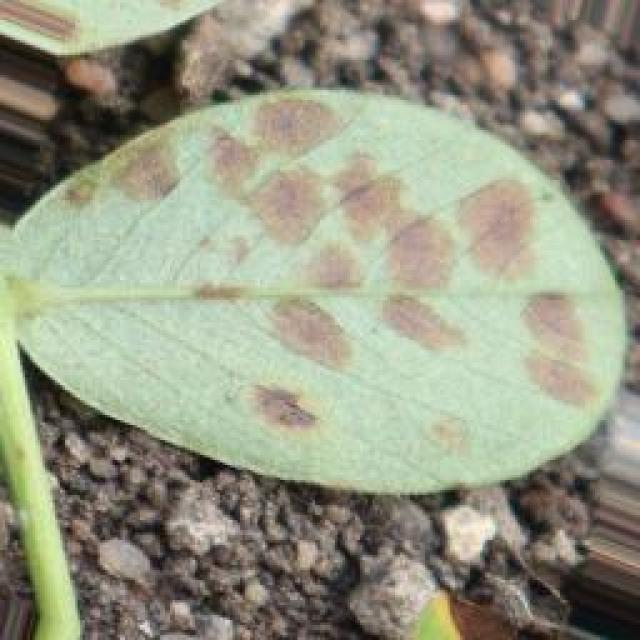Whitefly: (49, 104, 610, 510)
